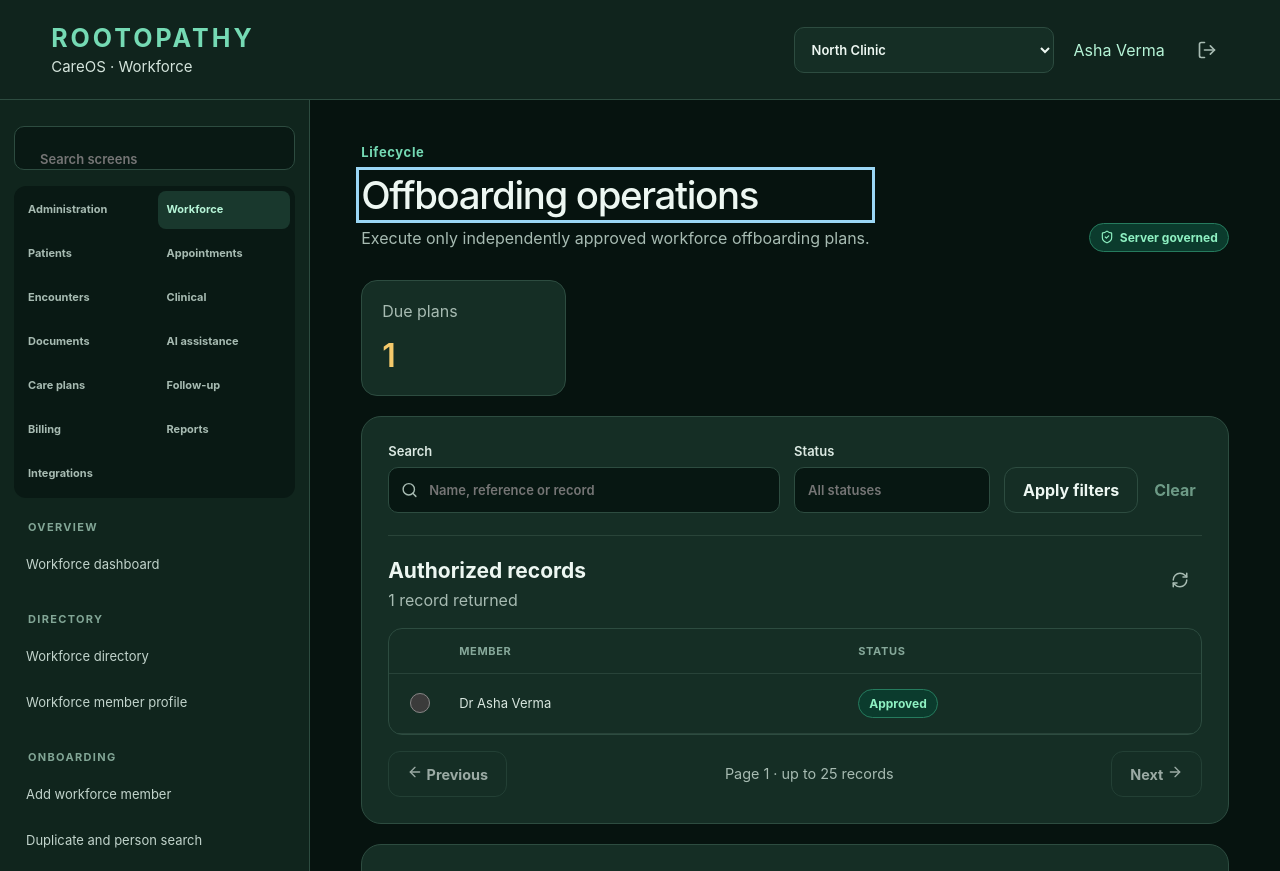
it: CareOS frontend session boundary › renders an M2 route from the live server projection and row-scoped actions
The image size is (1280, 871).
Expected: the heading "Offboarding operations" is shown, x1=361 y1=172 x2=758 y2=218
Expected: the text "Dr Asha Verma" is shown, x1=443 y1=674 x2=842 y2=733
Step 1. Click the radio button named "Select Dr Asha Verma" → point(420, 703), box x1=410 y1=693 x2=430 y2=713
(page scrolled)
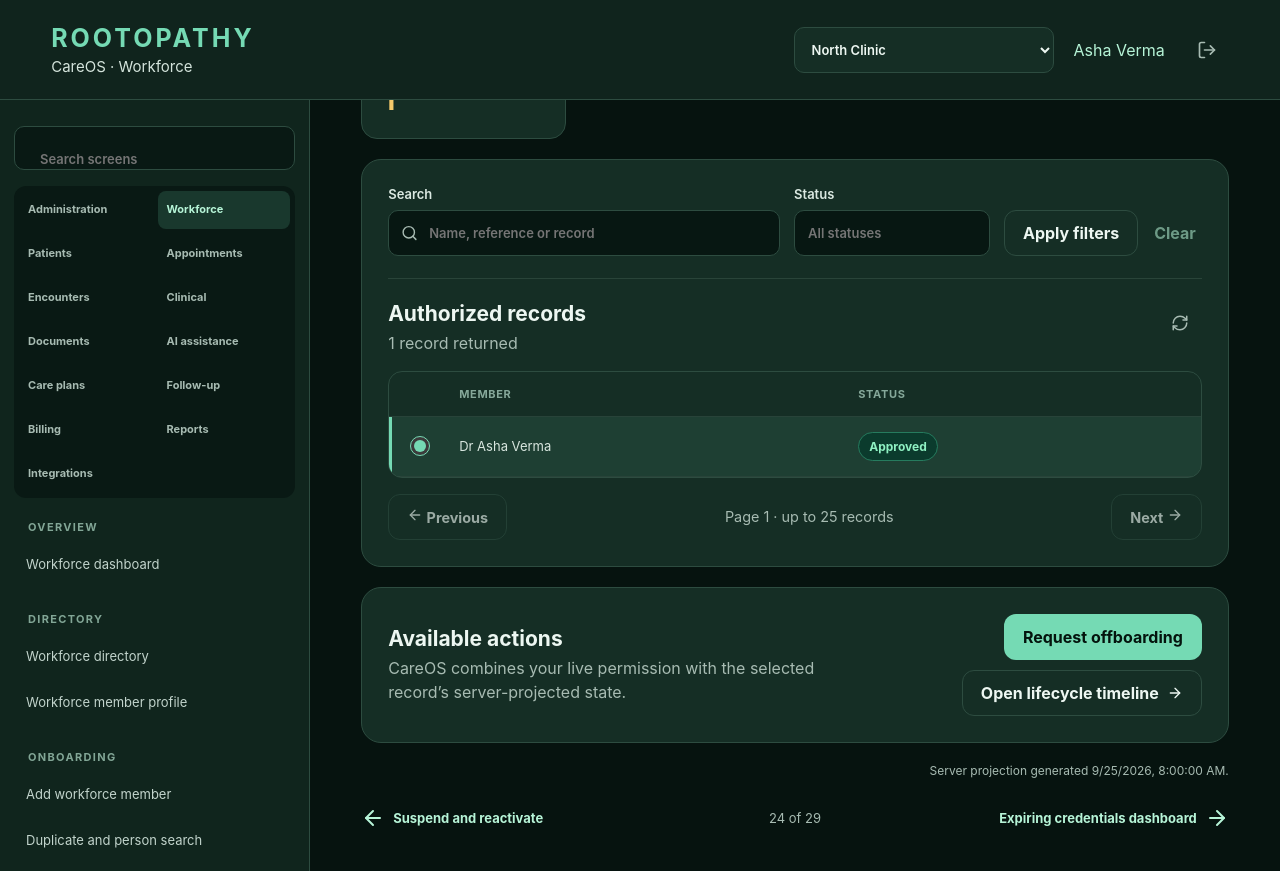
Step 2. Click the button "Request offboarding" → point(1103, 637), box x1=1004 y1=614 x2=1202 y2=660
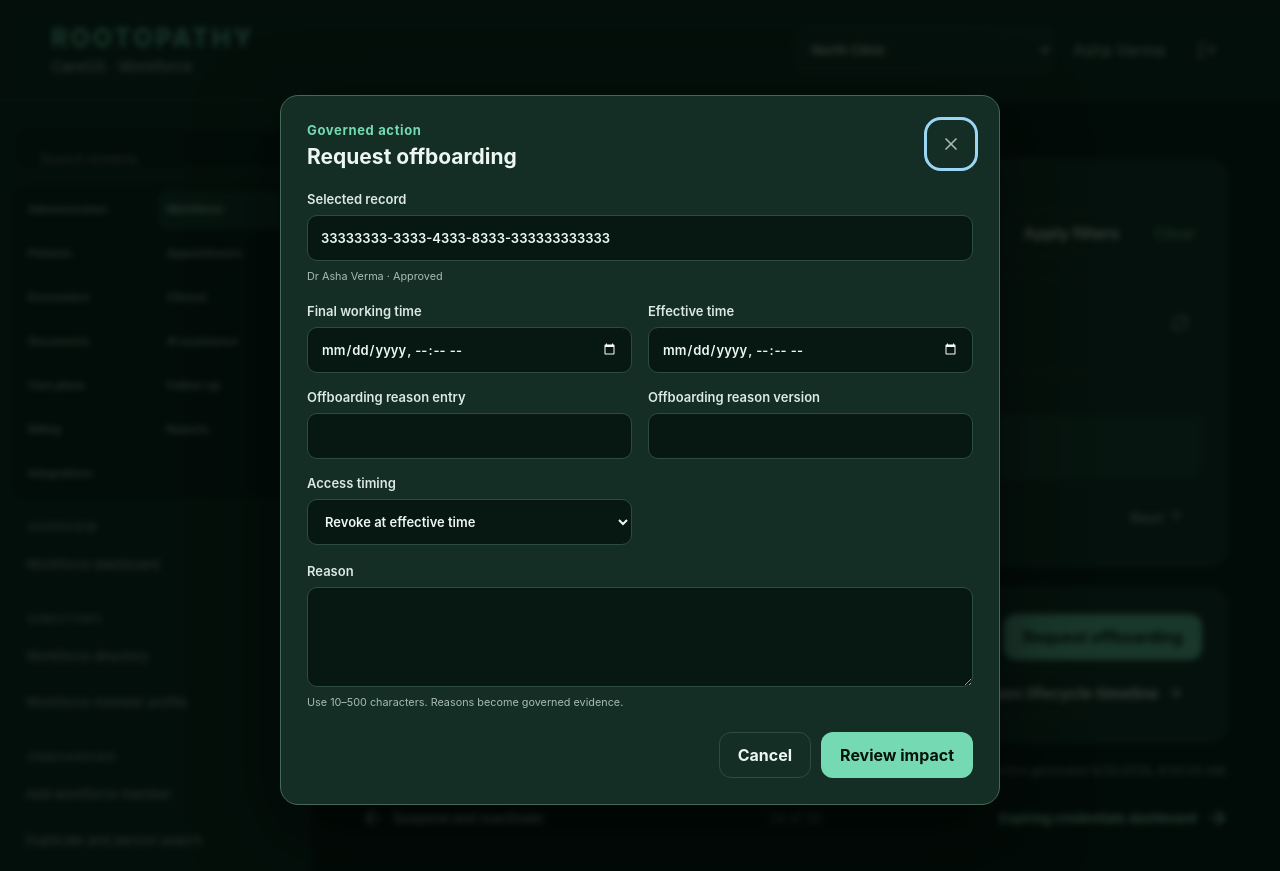
Result: the heading "Request offboarding" is shown at x1=307 y1=144 x2=517 y2=169
